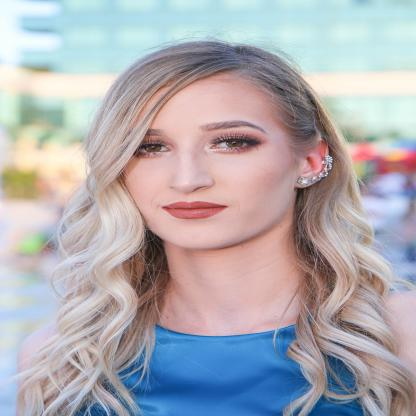Eye: (210, 134, 261, 154), (133, 139, 172, 159)
Mouth: (160, 201, 230, 219)
Nose: (167, 152, 214, 194)
